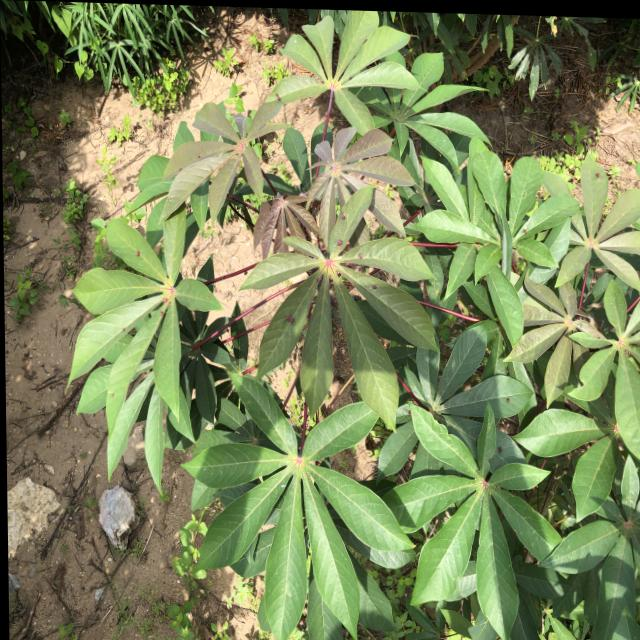Mosca: (334, 204, 356, 224), (115, 324, 135, 338), (279, 310, 294, 328), (330, 235, 347, 249), (506, 391, 520, 407), (369, 282, 384, 295), (357, 250, 370, 265), (130, 249, 147, 260), (494, 445, 507, 456), (595, 166, 603, 181)
